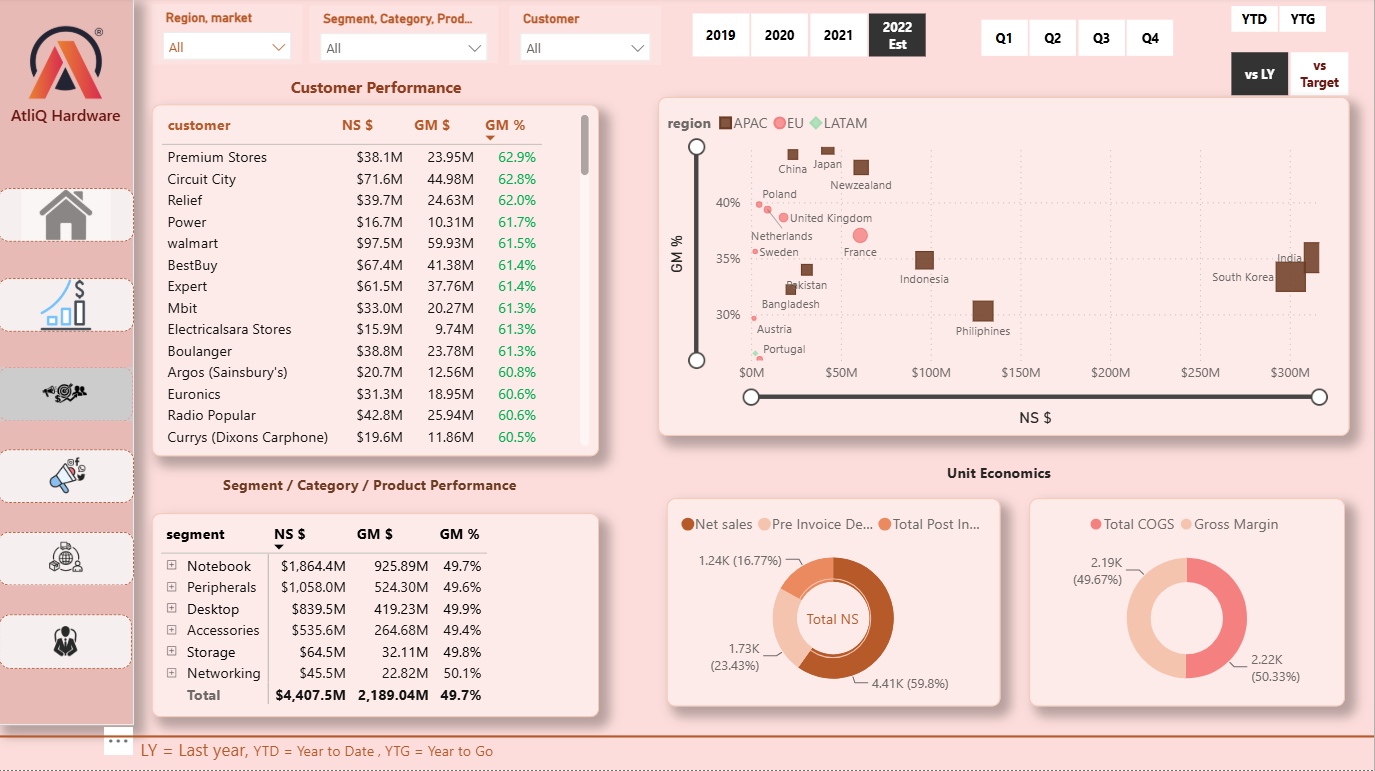

The page's visual inventory and layout, read from the dashboard file:
{"tool":"powerbi","page":{"name":"Sales view","canvas":[1280,720],"ordinal":2},"visuals":[{"type":"slicer","fields":{"Values":["fiscal_year.fy_desc"]},"box":[620.2,8.2,267.6,52.1],"z":0},{"type":"slicer","fields":{"Values":["dim_date.Quarter"]},"box":[887.8,13.7,229.2,48],"z":1000},{"type":"slicer","fields":{"Values":["dim_date.ytd_ytg"]},"box":[1121.1,1.4,138.6,34.3],"z":2000},{"type":"slicer","fields":{"Values":["dim_product.segment","dim_product.category","dim_product.product"]},"box":[289.5,8.2,175.6,53.5],"z":3000},{"type":"slicer","fields":{"Values":["dim_market.region","dim_market.market"]},"box":[142.7,6.9,140,56.3],"z":4000},{"type":"textbox","box":[156.8,68.9,389.4,31.1],"z":5000},{"type":"slicer","fields":{"Values":["dim_customer.customer"]},"box":[476.2,8.2,141.3,54.9],"z":6000},{"type":"shape","box":[0,0,126.2,677.9],"z":7000},{"type":"image","box":[0,262.1,126.2,49.4],"z":8000},{"type":"image","box":[0,344.7,125.7,50],"z":9000},{"type":"image","box":[0,421.3,126.2,49.4],"z":10000},{"type":"image","box":[0,498.1,126.2,49.4],"z":11000},{"type":"image","box":[1.4,575,123.5,50],"z":12000},{"type":"image","box":[0,178.4,126.2,49.4],"z":13000},{"type":"slicer","fields":{"Values":["Set BM.Benchmark"]},"box":[1121.1,43.9,159.2,50.8],"z":14000},{"type":"textbox","box":[123.5,683.4,940,34.3],"z":15000},{"type":"cardVisual","fields":{"Data":["Key Measures.BM Message"]},"box":[142.7,52.1,511.8,45.3],"z":16000},{"type":"shape","box":[1.1,678.7,1278.9,17.6],"z":17000},{"type":"textbox","box":[1.4,94.7,123.5,43.9],"z":18000},{"type":"image","box":[19.2,26.1,87.8,70],"z":19000},{"type":"tableEx","fields":{"Values":["dim_customer.customer","Key Measures.NS $","Key Measures.GM $","Key Measures.GM %"]},"box":[143.3,100,416.4,327.2],"z":20000},{"type":"pivotTable","fields":{"Rows":["dim_product.segment","dim_product.category","dim_product.product"],"Values":["Key Measures.NS $","Key Measures.GM $","Key Measures.GM %"]},"box":[143.3,479.9,416.4,189.3],"z":21000},{"type":"scatterChart","fields":{"Category":["dim_customer.market","dim_customer.customer"],"X":["Key Measures.NS $"],"Series":["dim_market.region"],"Size":["Key Measures.NS $"],"Y":["Key Measures.GM %"]},"box":[613.8,93.3,643.5,315],"z":22000},{"type":"donutChart","fields":{"Y":["Key Measures.P & L values"],"Category":["P & L Rows.Description"]},"box":[621.6,466.6,310.1,193.5],"z":23000},{"type":"donutChart","fields":{"Y":["Key Measures.P & L values"],"Category":["P & L Rows.Description"]},"box":[959.2,466.6,293.7,193.5],"z":24000},{"type":"textbox","box":[143.3,439.4,405.6,32.4],"z":25000},{"type":"textbox","box":[662.8,428.1,536.5,30.2],"z":26000},{"type":"shape","box":[740.9,540.8,71.7,74.4],"z":27000}]}

Visuals, with their boxes in screenshot pixels (x1, y1, x2, y2), scaled from the page's 1280x720 canvas onto the 1375x771 screenshot:
slicer - fiscal_year.fy_desc: rect(666, 9, 954, 65)
slicer - dim_date.Quarter: rect(954, 15, 1200, 66)
slicer - dim_date.ytd_ytg: rect(1204, 1, 1353, 38)
slicer - dim_product.segment x dim_product.category: rect(311, 9, 500, 66)
slicer - dim_market.region x dim_market.market: rect(153, 7, 304, 68)
textbox: rect(168, 74, 587, 107)
slicer - dim_customer.customer: rect(512, 9, 663, 68)
shape: rect(0, 0, 136, 726)
image: rect(0, 281, 136, 334)
image: rect(0, 369, 135, 423)
image: rect(0, 451, 136, 504)
image: rect(0, 533, 136, 586)
image: rect(2, 616, 134, 669)
image: rect(0, 191, 136, 244)
slicer - Set BM.Benchmark: rect(1204, 47, 1374, 101)
textbox: rect(133, 732, 1142, 769)
cardVisual - Key Measures.BM Message: rect(153, 56, 703, 104)
shape: rect(1, 727, 1374, 746)
textbox: rect(2, 101, 134, 148)
image: rect(21, 28, 115, 103)
tableEx - dim_customer.customer x Key Measures.NS $: rect(154, 107, 601, 457)
pivotTable - dim_product.segment x dim_product.category: rect(154, 514, 601, 717)
scatterChart - dim_customer.market x dim_customer.customer: rect(659, 100, 1351, 437)
donutChart - Key Measures.P & L values x P & L Rows.Description: rect(668, 500, 1001, 707)
donutChart - Key Measures.P & L values x P & L Rows.Description: rect(1030, 500, 1346, 707)
textbox: rect(154, 471, 590, 505)
textbox: rect(712, 458, 1288, 491)
shape: rect(796, 579, 873, 659)
